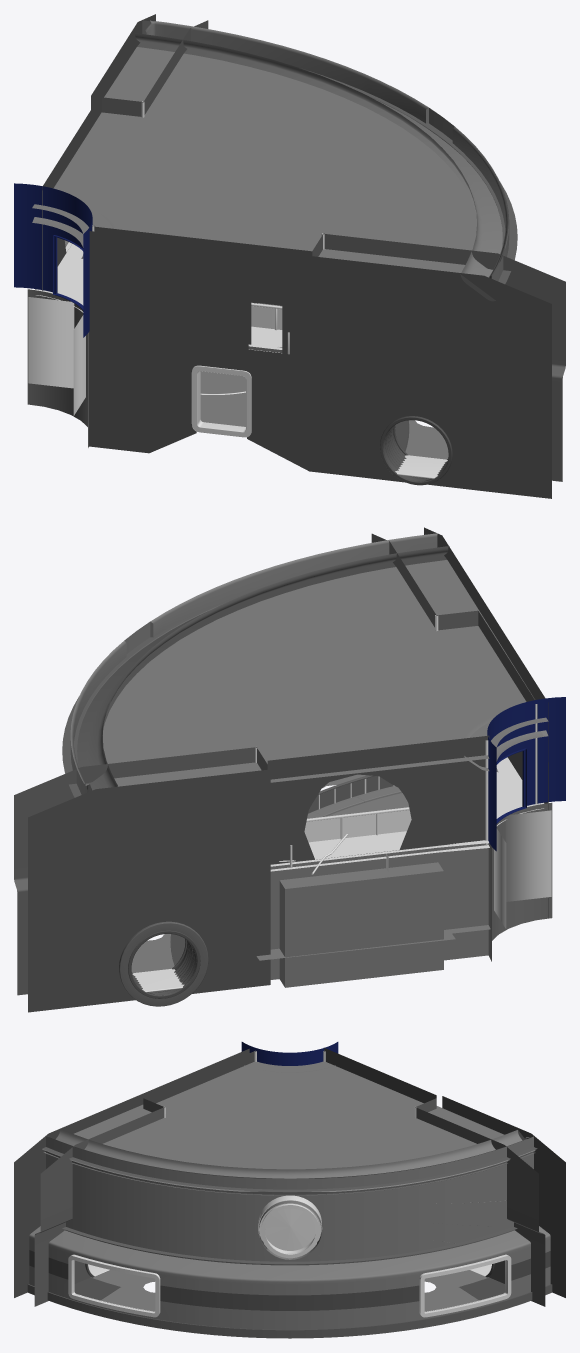
File: MainHall.fbx
3 renders of one model, top to bottom at view 1: azimuth 30°, elevation 25°; view 2: azimuth 150°, elevation 25°; view 3: azimuth 270°, elevation 25°, orthographic. The views are drawn at different scales.
Visible parts, largest first — view 1: MainHallEnv008, Object134, MainHallEnv003, Object125, MainHallEnv023, ToElevatorHall011, MainHallEnv024, Box503, MainHallEnv028, Box492, MainHallEnv005, MainHallEnv012 (+10 smaller); view 2: MainHallEnv008, Object135, MainHallEnv000, Object126, MainHallEnv023, ToElevatorHall011, Box502, MainHallEnv024, MainHallEnv028, MainHallEnv001, MainHallEnv003, Object129 (+13 smaller); view 3: MainHallEnv007, MainHallEnv008, MainHallEnv030, MainHallEnv024, Object125, MainHallEnv027, Object126, Object071, Object135, Object134, MainHallEnv012, MainHallEnv013 (+9 smaller).
Boxes of the visible parts, x1,y1,x2,y2 form: MainHallEnv008: (32, 42, 502, 277); Object134: (309, 256, 551, 498); MainHallEnv003: (89, 226, 312, 470); Object125: (312, 233, 565, 481); MainHallEnv023: (145, 20, 508, 278); ToElevatorHall011: (14, 183, 92, 337); MainHallEnv024: (134, 33, 495, 301); Box503: (28, 297, 74, 388); MainHallEnv028: (27, 289, 88, 447); Box492: (191, 365, 251, 437); MainHallEnv005: (379, 416, 452, 485); MainHallEnv012: (303, 69, 517, 284); MainHallEnv008: (77, 555, 548, 790); Object135: (28, 769, 270, 1012); MainHallEnv000: (267, 735, 489, 987); Object126: (14, 747, 267, 995); MainHallEnv023: (70, 533, 437, 792); ToElevatorHall011: (487, 697, 565, 851); Box502: (505, 810, 551, 901); MainHallEnv024: (87, 546, 449, 789); MainHallEnv028: (488, 802, 552, 961); MainHallEnv001: (119, 921, 208, 1006); MainHallEnv003: (478, 610, 548, 918); Object129: (305, 810, 411, 842); MainHallEnv007: (46, 1136, 533, 1264); MainHallEnv008: (42, 1061, 535, 1191); MainHallEnv030: (29, 1226, 550, 1329); MainHallEnv024: (43, 1129, 535, 1195); Object125: (34, 1098, 164, 1306); MainHallEnv027: (27, 1284, 552, 1338); Object126: (415, 1098, 545, 1306); Object071: (74, 1270, 504, 1311); Object135: (442, 1096, 565, 1297); Object134: (14, 1096, 137, 1297); MainHallEnv012: (42, 1147, 537, 1194); MainHallEnv013: (62, 1227, 517, 1265).
Size of what is drawn, in the model's own units: 2197 by 1122 by 3532.
